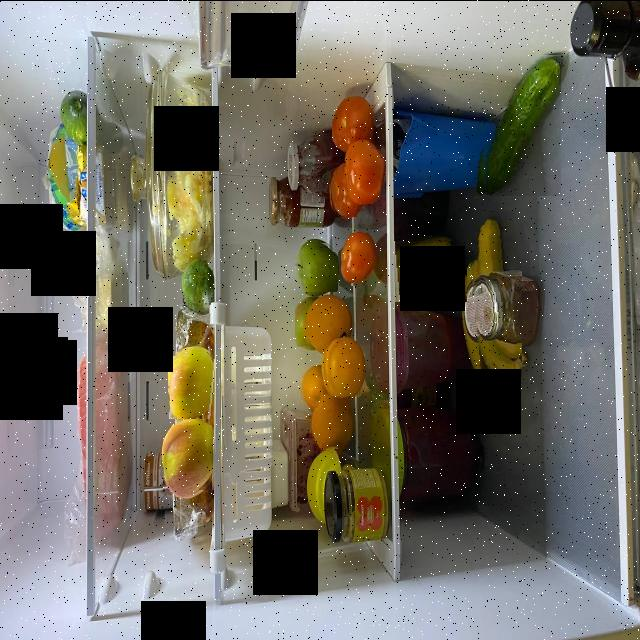Apple: (163, 426, 216, 494), (168, 349, 216, 419), (294, 240, 338, 292), (295, 297, 312, 347)
Banana: (467, 226, 522, 382), (390, 235, 467, 302)
Cucumber: (476, 52, 561, 196), (182, 260, 212, 314), (60, 90, 89, 144)
Orange: (322, 336, 361, 404), (309, 396, 351, 452), (308, 295, 345, 349), (300, 371, 323, 409)
Tomato: (343, 138, 381, 204), (338, 234, 375, 288), (332, 96, 370, 148), (329, 167, 357, 217)
